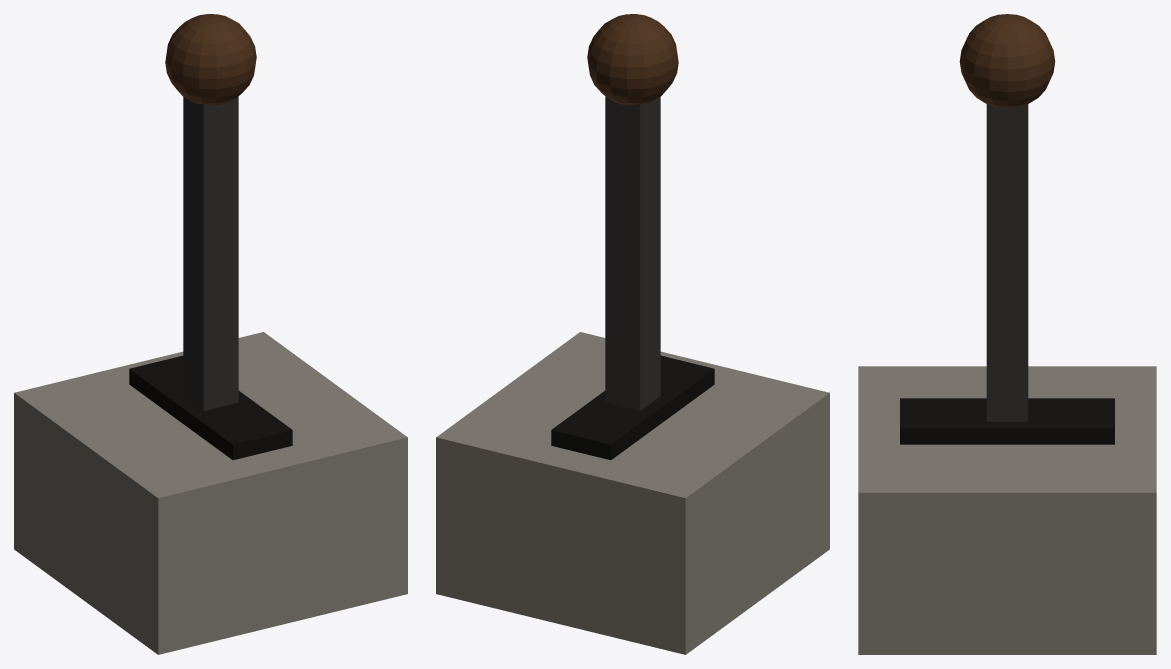
The model's file is lever.57e39809.glb.
The picture shows the model from 3 angles, left to right: view 1: azimuth 30°, elevation 25°; view 2: azimuth 150°, elevation 25°; view 3: azimuth 270°, elevation 25°; orthographic projection. The views are drawn at different scales.
Parts seen in each view (by area): view 1: body, swing; view 2: body, swing; view 3: body, swing.
Part boxes in pixels (box(x1,y1,x2,y2)): body: box(14, 332, 407, 654); swing: box(165, 14, 256, 410); body: box(436, 332, 829, 654); swing: box(587, 14, 678, 410); body: box(858, 366, 1156, 654); swing: box(959, 14, 1055, 421).
Size of the model in its own units: 0.5 by 1.06 by 0.5.
